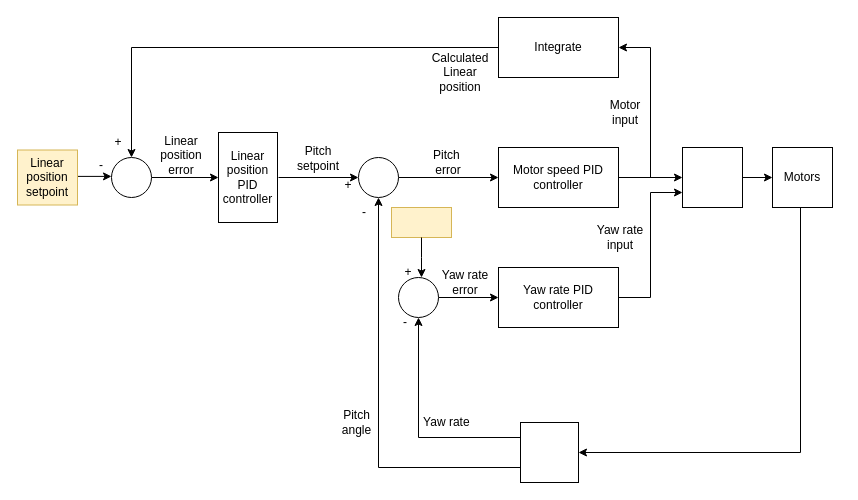
The diagram is 858 pixels wide and 500 high, and some of its shapes have lost their labels. Here are the shapes that lost their labels. From the top down, the centre of each, then its label:
At (712,177): "Motors drivers".
At (421,222): "Yaw rate setpoint".
At (549,452): "IMU".
